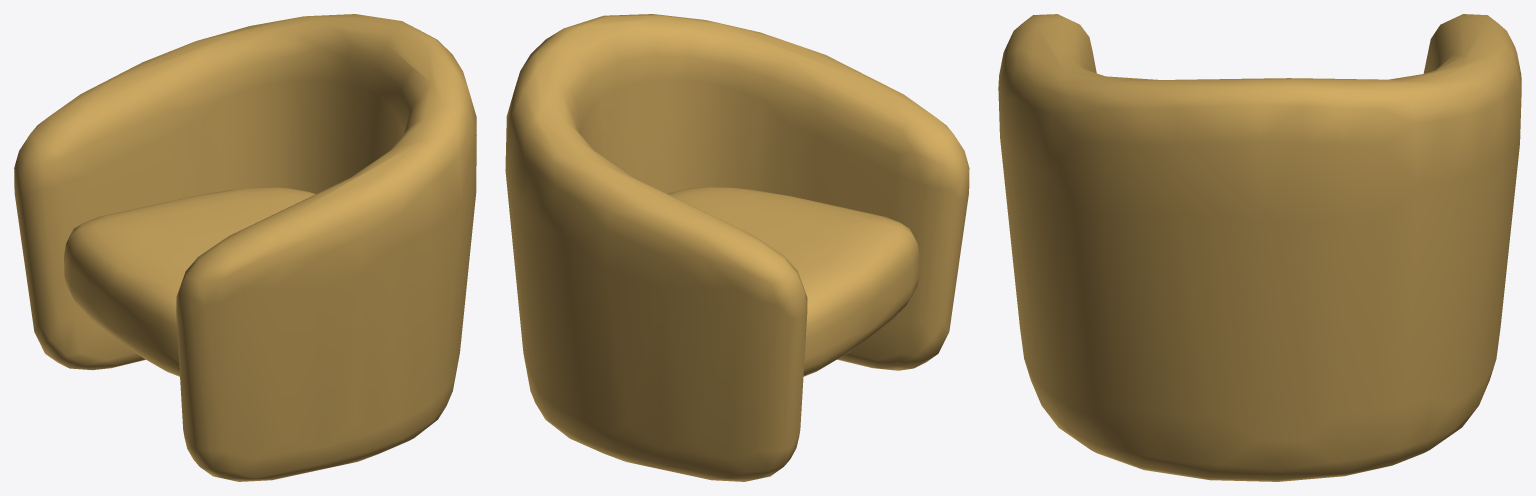
The model's file is armchair_05_yellow.fbx.
3 views of the same model, side by side, from view 1: azimuth 30°, elevation 25°; view 2: azimuth 150°, elevation 25°; view 3: azimuth 270°, elevation 25° (orthographic). The views are drawn at different scales.
Visible parts, largest first — view 1: armchair_05_yellow; view 2: armchair_05_yellow; view 3: armchair_05_yellow.
Part boxes in pixels (bbox=[...]): armchair_05_yellow: bbox=[14, 14, 476, 481]; armchair_05_yellow: bbox=[505, 14, 969, 481]; armchair_05_yellow: bbox=[998, 14, 1521, 481].
Size of the model in its own units: 113 by 103 by 120.
1 material, 1 textured.
